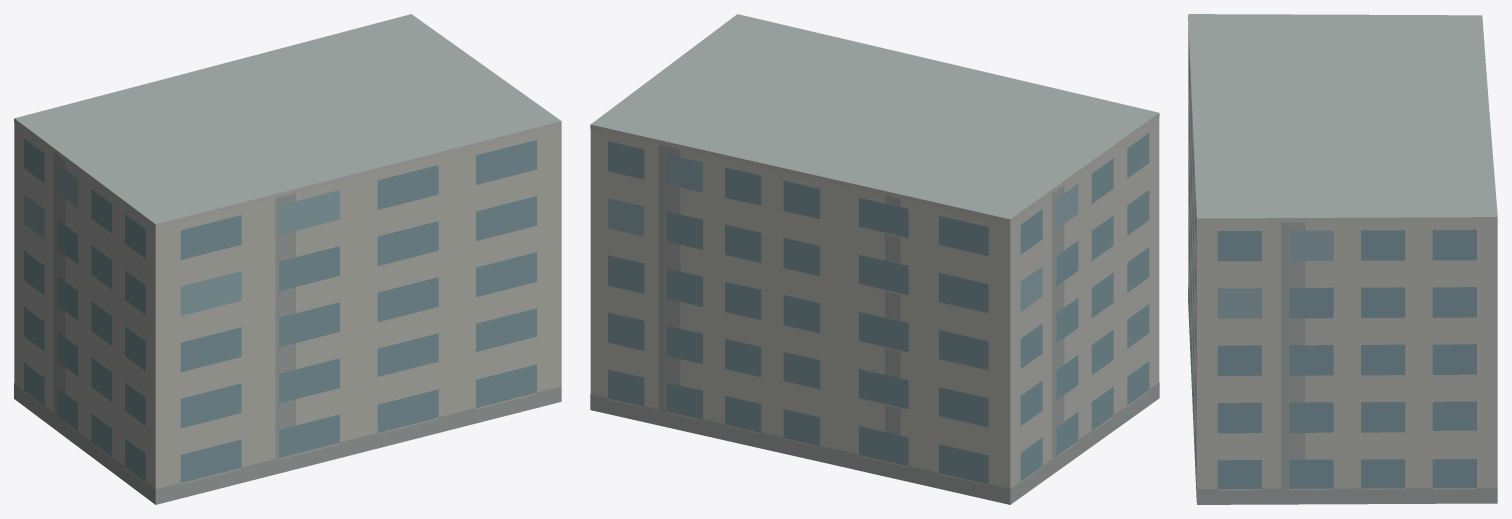
File: survey-upis-32760805.glb
3 renders of one model, left to right at view 1: azimuth 30°, elevation 25°; view 2: azimuth 150°, elevation 25°; view 3: azimuth 270°, elevation 25°, orthographic. The views are drawn at different scales.
Parts seen in each view (by area): view 1: survey-upis-32760805.tmp; view 2: survey-upis-32760805.tmp; view 3: survey-upis-32760805.tmp.
Boxes of the visible parts, x1,y1,x2,y2 form: survey-upis-32760805.tmp: [14, 14, 561, 504]; survey-upis-32760805.tmp: [590, 14, 1159, 504]; survey-upis-32760805.tmp: [1188, 14, 1497, 504].
Bounding box in the file's own units: 23.74 × 15.5 × 15.2.
